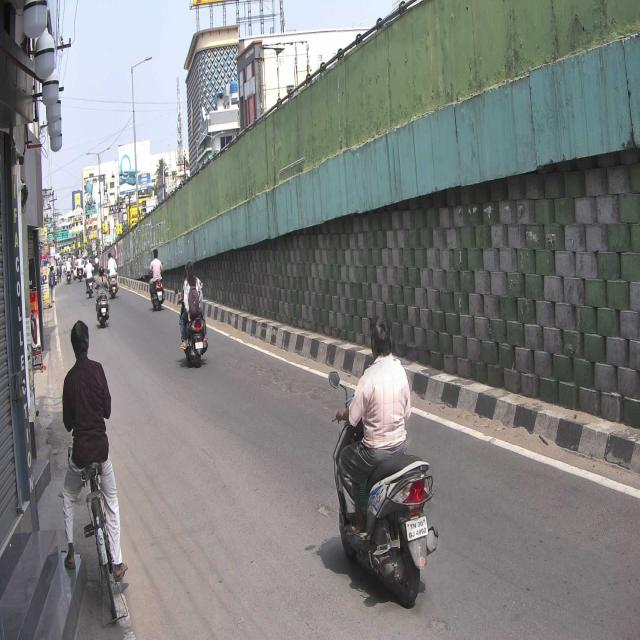single_rider: (333, 309, 436, 606)
